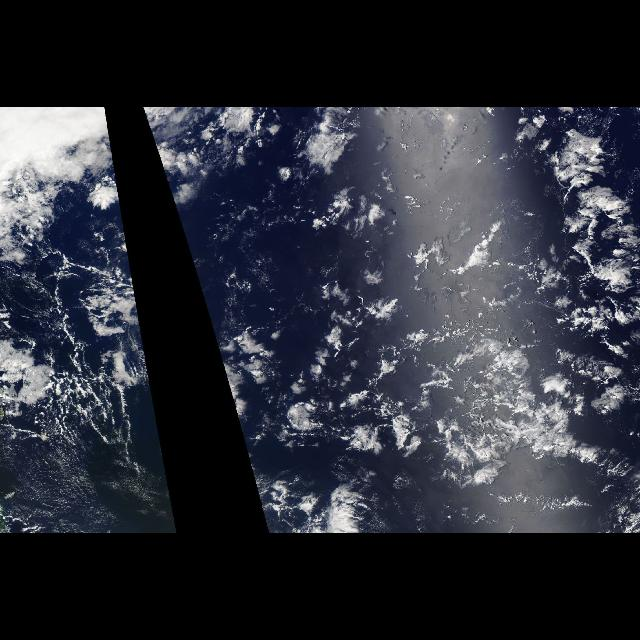Flower: (284, 112, 638, 532)
Sugar: (4, 203, 178, 532), (175, 202, 281, 530)
